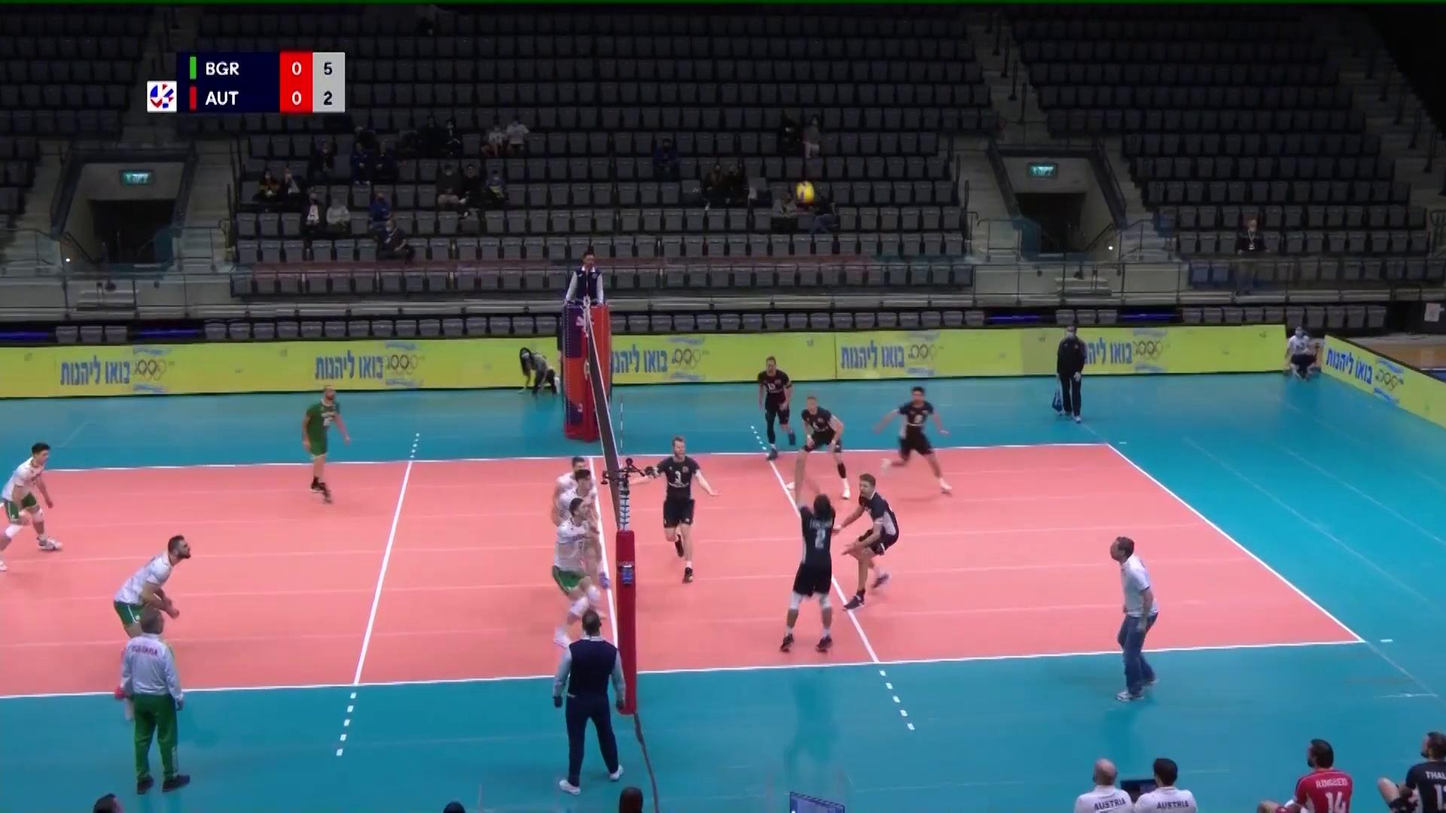ball: (796, 180, 815, 202)
